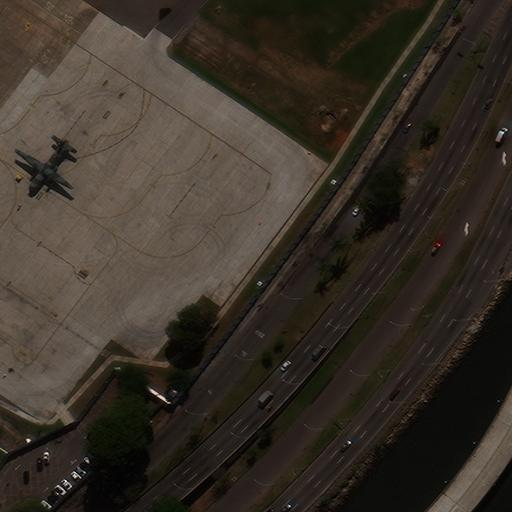Military Transport: (13, 140, 72, 198)
